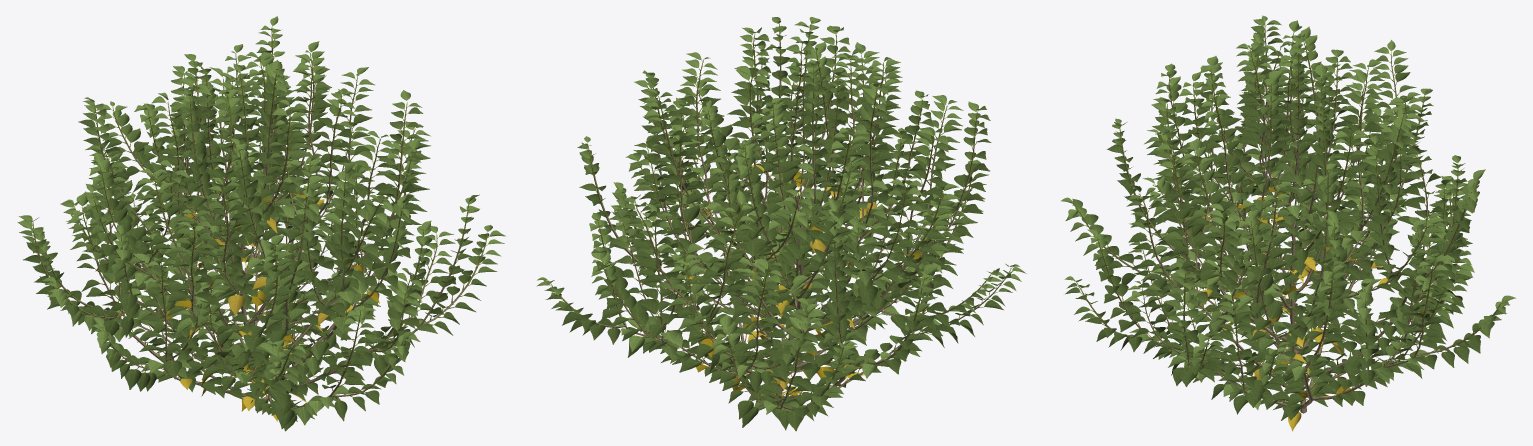
File: Hedera helix 'Erecta' HD_Wild mat 50_LOD0.fbx
The picture shows the model from 3 angles, left to right: view 1: azimuth 30°, elevation 25°; view 2: azimuth 150°, elevation 25°; view 3: azimuth 270°, elevation 25°; orthographic projection. The views are drawn at different scales.
Parts seen in each view (by area): view 1: Hedera_helix__Erecta__HD; view 2: Hedera_helix__Erecta__HD; view 3: Hedera_helix__Erecta__HD.
Part boxes in pixels (x1,y1,x2,y2): Hedera_helix__Erecta__HD: [17, 16, 505, 431]; Hedera_helix__Erecta__HD: [536, 17, 1026, 431]; Hedera_helix__Erecta__HD: [1061, 15, 1515, 431].
Size of the model in its own units: 0.9414 by 0.7951 by 0.8984.
Materials: 10 (10 with a texture image).
